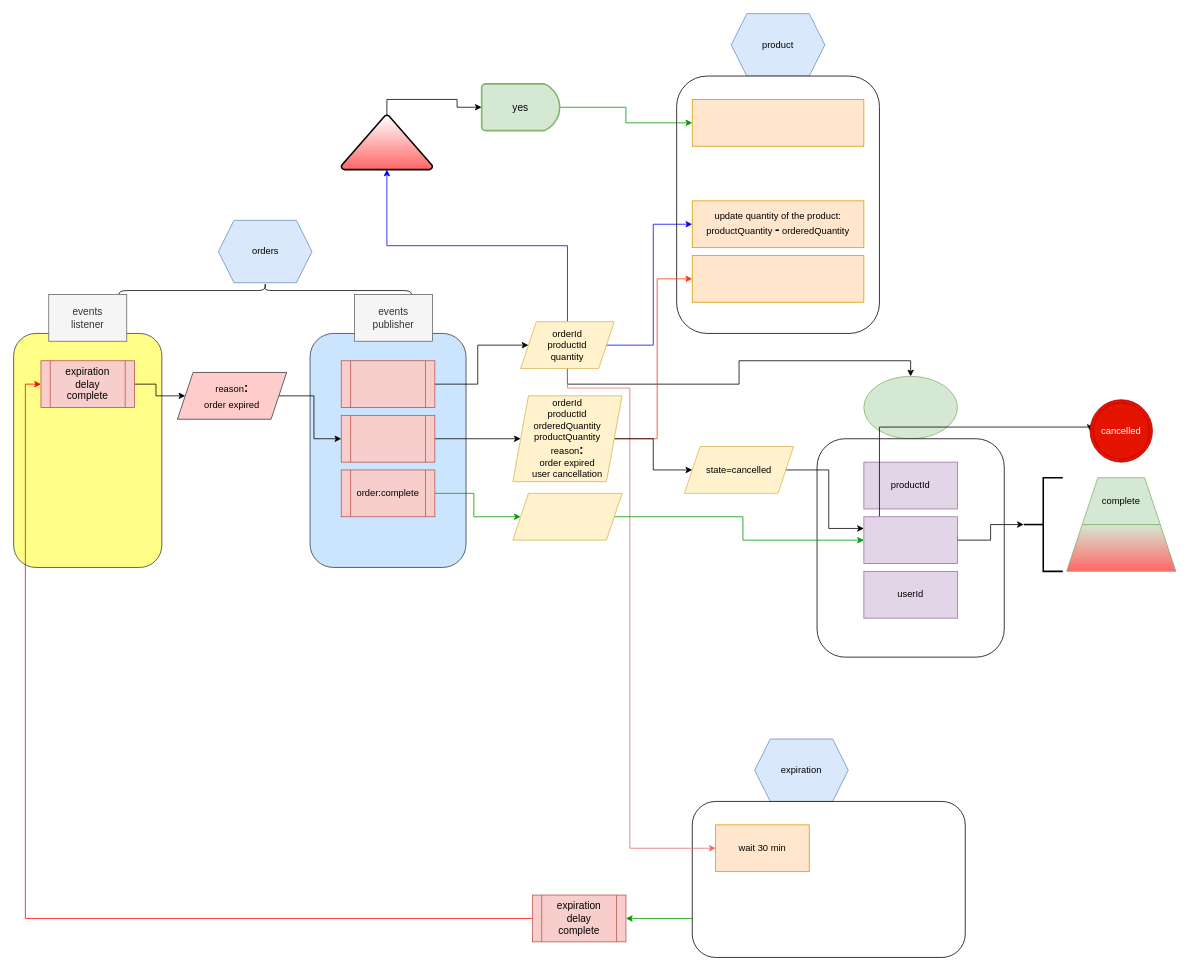
Some shapes in this 1190 by 971 pixel diagram are drawn without their labels. The shapes that lost their labels are listed below. From the top down, each one's box as (x1, y1, x2, y2) in pixels, then its label:
(340, 114, 433, 170): quantity=1
(691, 99, 864, 146): block any new orders for the product with ID "productId"
(691, 255, 864, 302): update quantity of the product: productQuantity
(340, 360, 435, 408): order:new
(863, 376, 957, 439): Database
(340, 415, 435, 462): order:cancelled
(512, 493, 622, 540): state=complete
(863, 516, 957, 564): state
(1066, 524, 1176, 571): waiting
